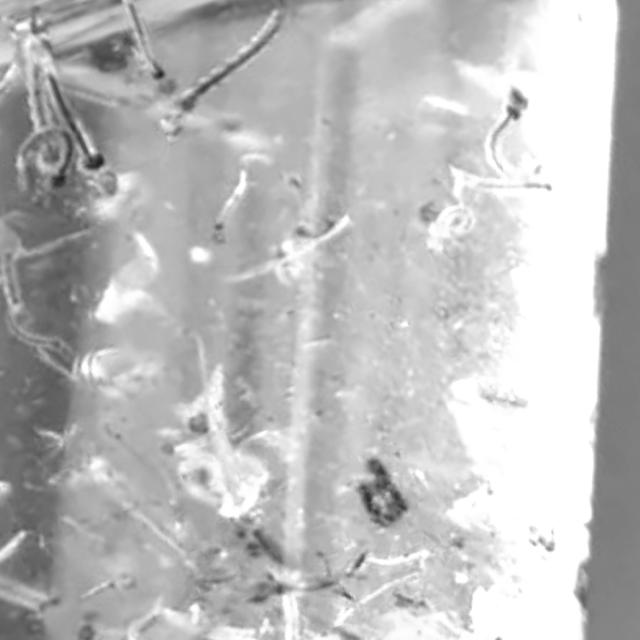larvas: (166, 8, 282, 141), (44, 63, 110, 180), (56, 70, 163, 115), (486, 88, 538, 174), (123, 0, 164, 81), (244, 572, 362, 600), (23, 39, 58, 133), (215, 168, 248, 245), (10, 148, 54, 205), (444, 171, 550, 191), (430, 203, 471, 247), (51, 134, 72, 183)
